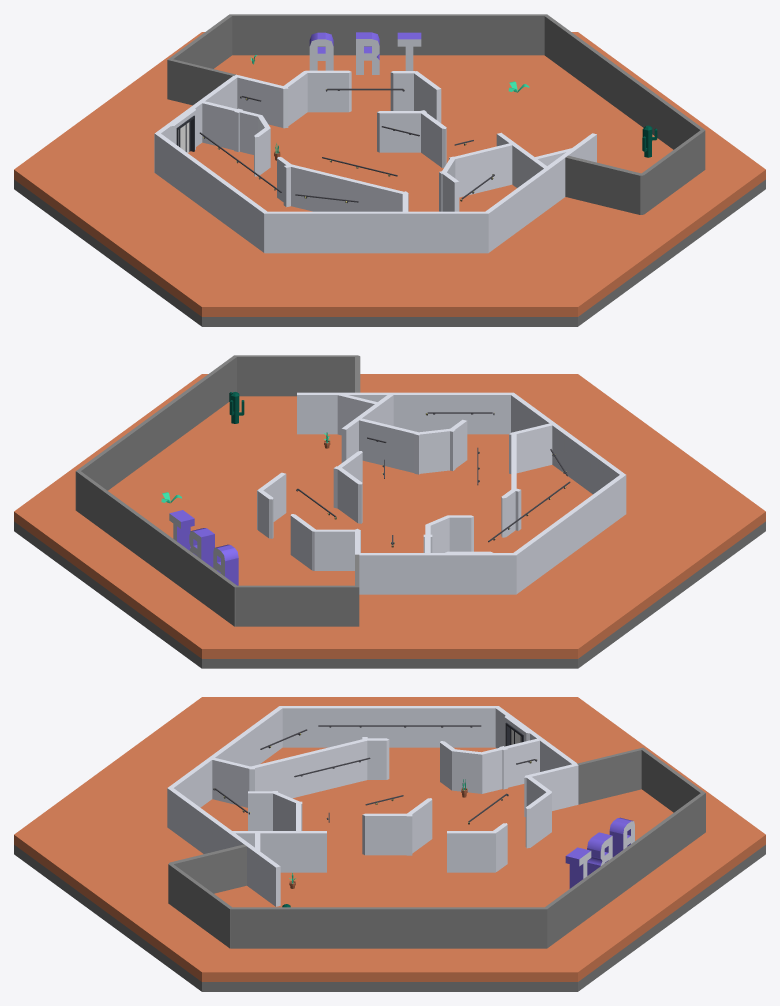
Rendered from Art-Gallery-v2-without roof and ground.fbx.
3 views of the same model, one above another, from view 1: azimuth 30°, elevation 25°; view 2: azimuth 150°, elevation 25°; view 3: azimuth 270°, elevation 25° (orthographic).
Visible parts, largest first — view 1: mergedBlocks; view 2: mergedBlocks; view 3: mergedBlocks.
Part boxes in pixels (x1,y1,x2,y2): mergedBlocks: (14,14,765,326); mergedBlocks: (14,355,765,668); mergedBlocks: (14,697,765,991).
Size of the model in its own units: 600 by 150 by 693.
